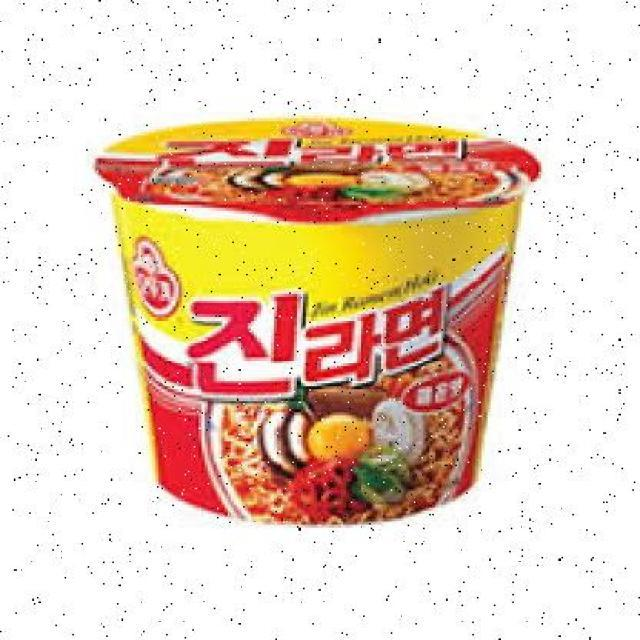Miscellaneous: (87, 109, 553, 534)
